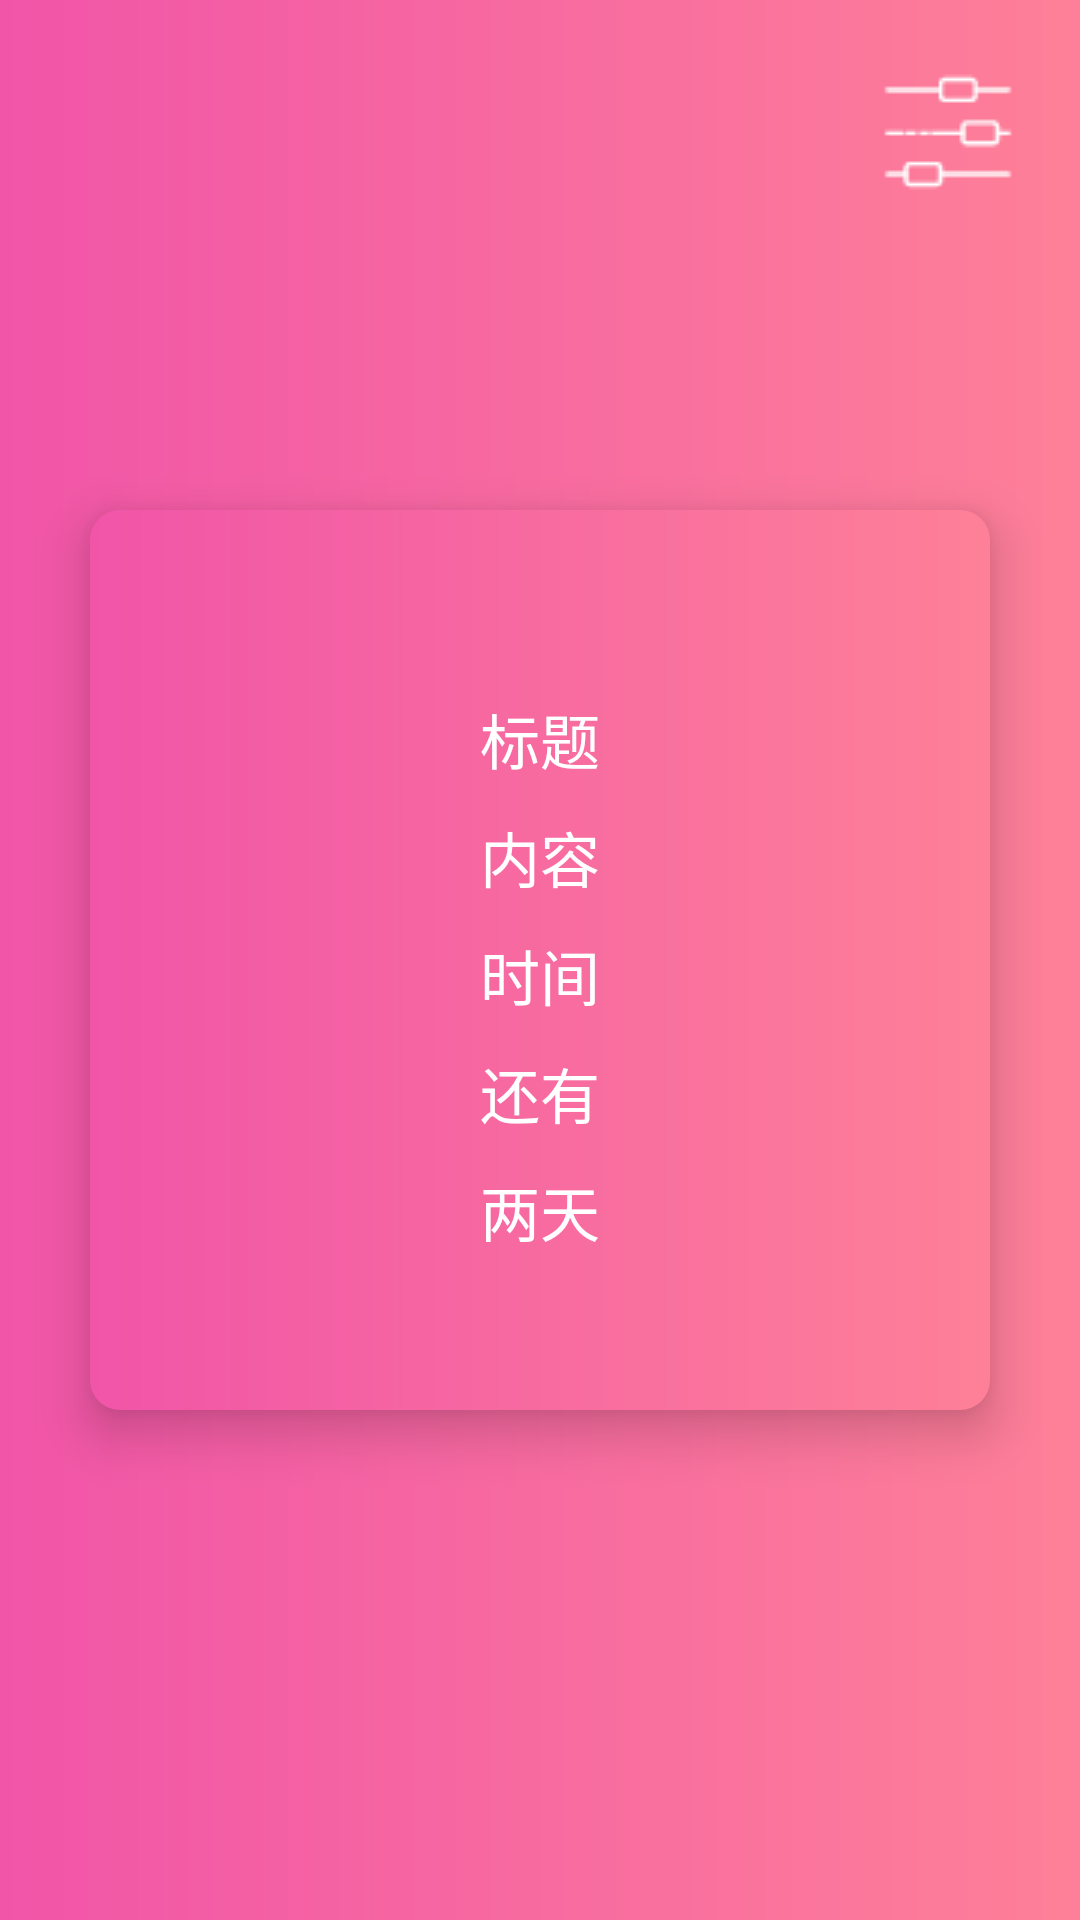

Point at icon controls on the screen. Image size 1080px x 1920px, points as [x,y].
setting: [948,132]
